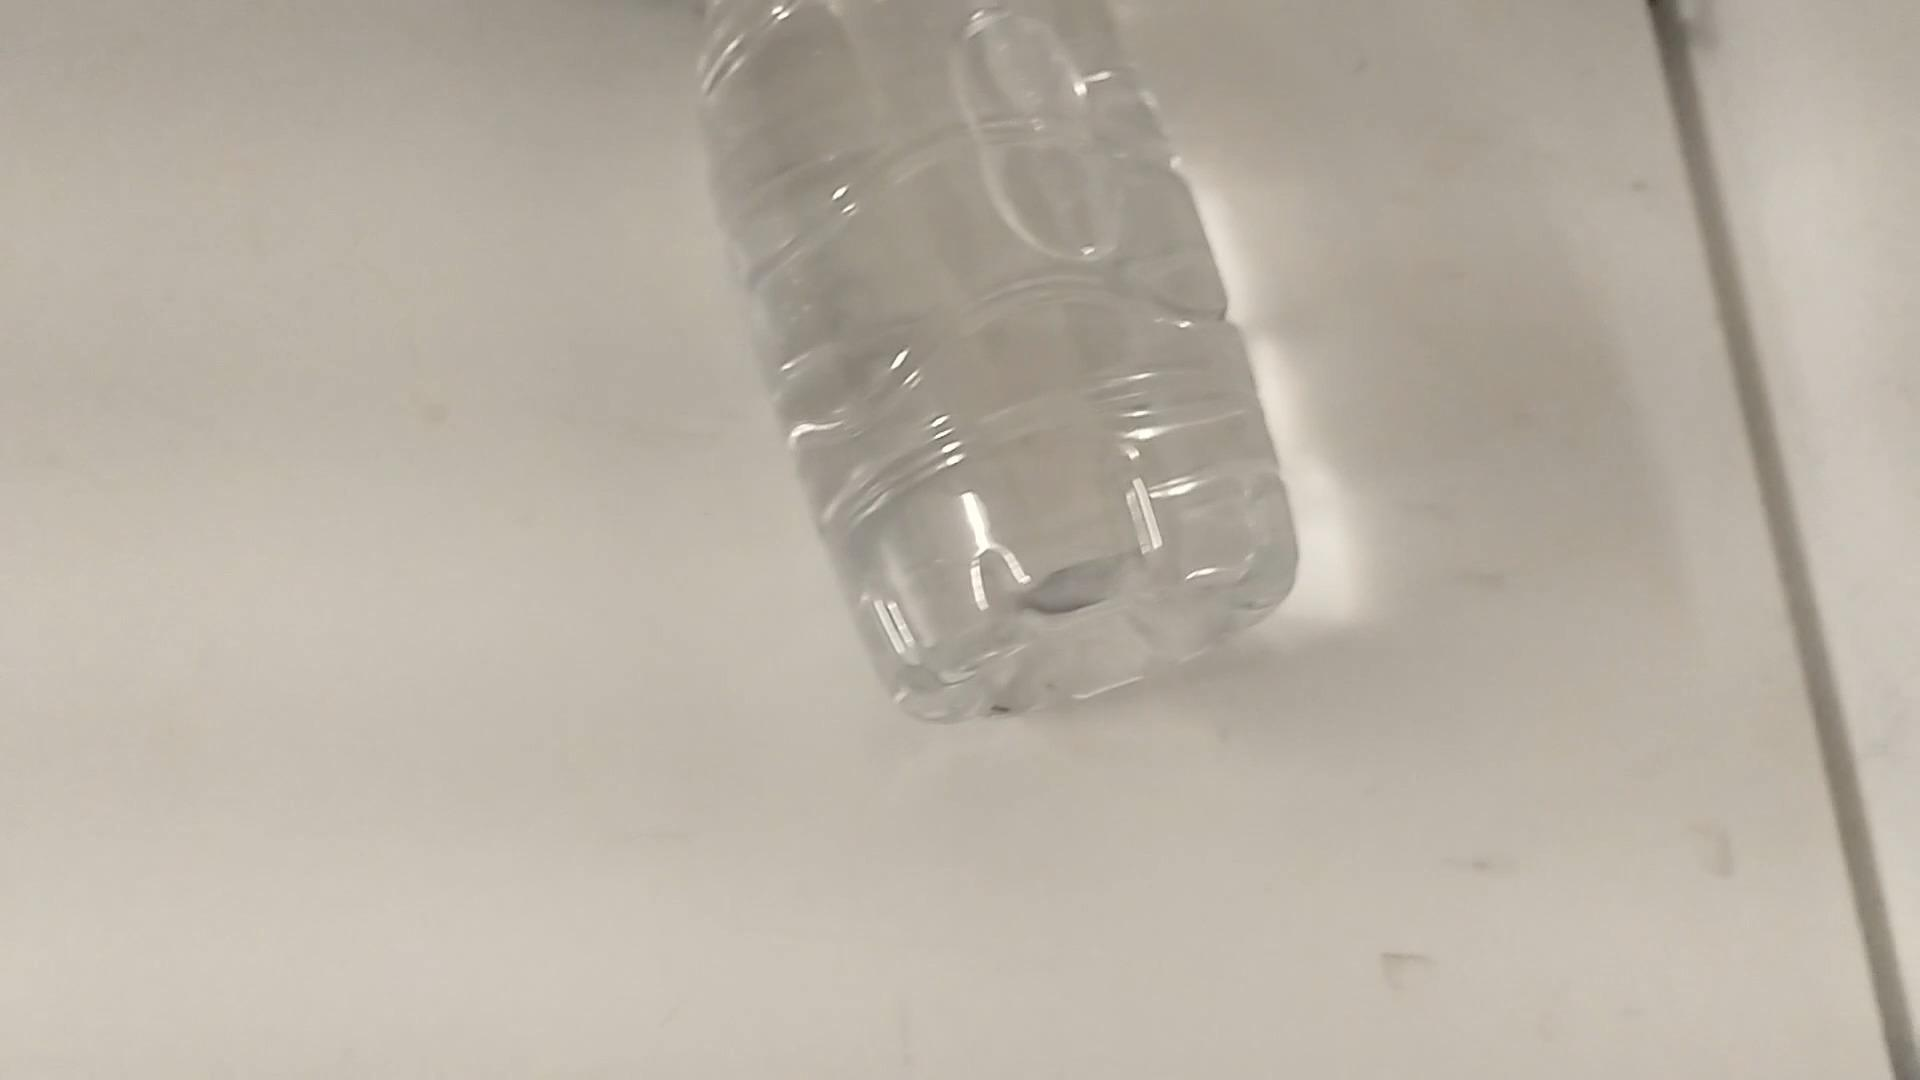agua: (549, 0, 1300, 725)
